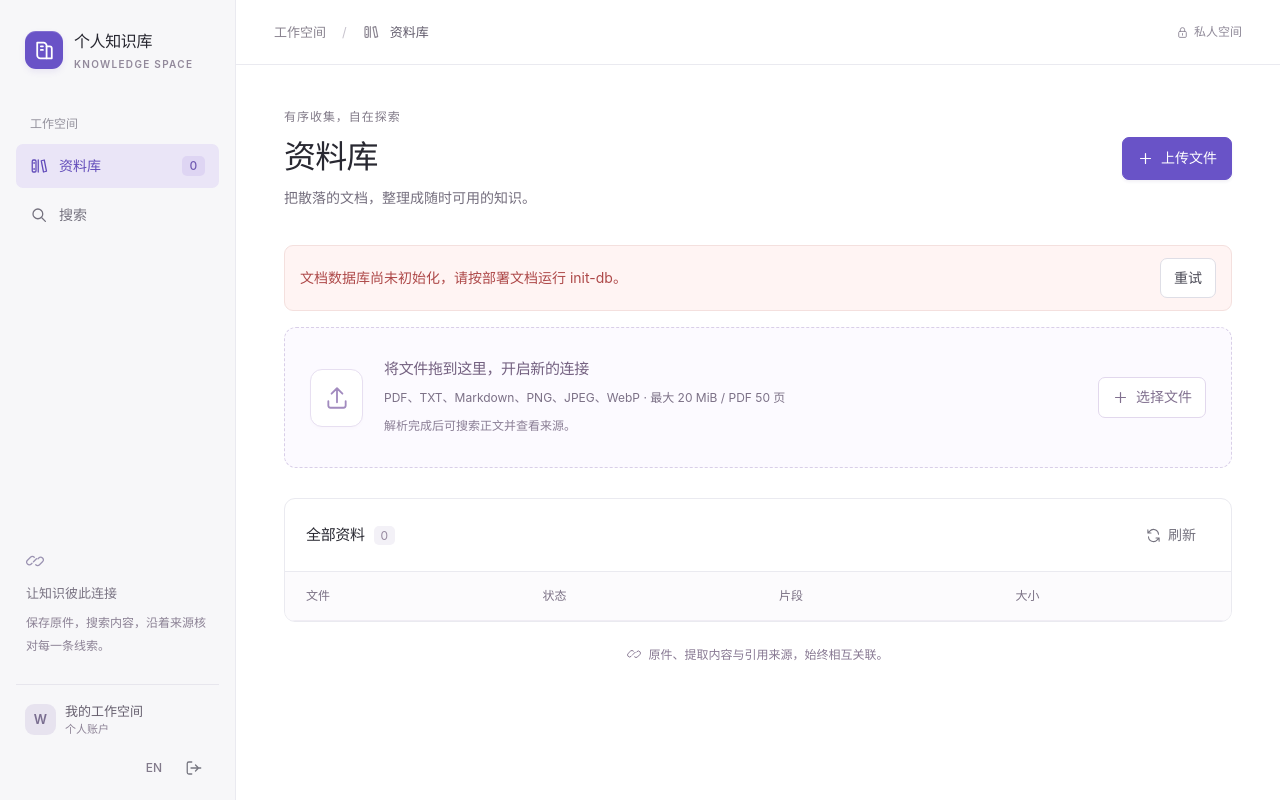
Test: Document workspace › preserves actionable schema errors and allows refreshing
Expected: the message shows "init-db", [300,269,627,286]
Step 1. Click the button "资料库 0" → click(118, 166), box [16,144,219,188]
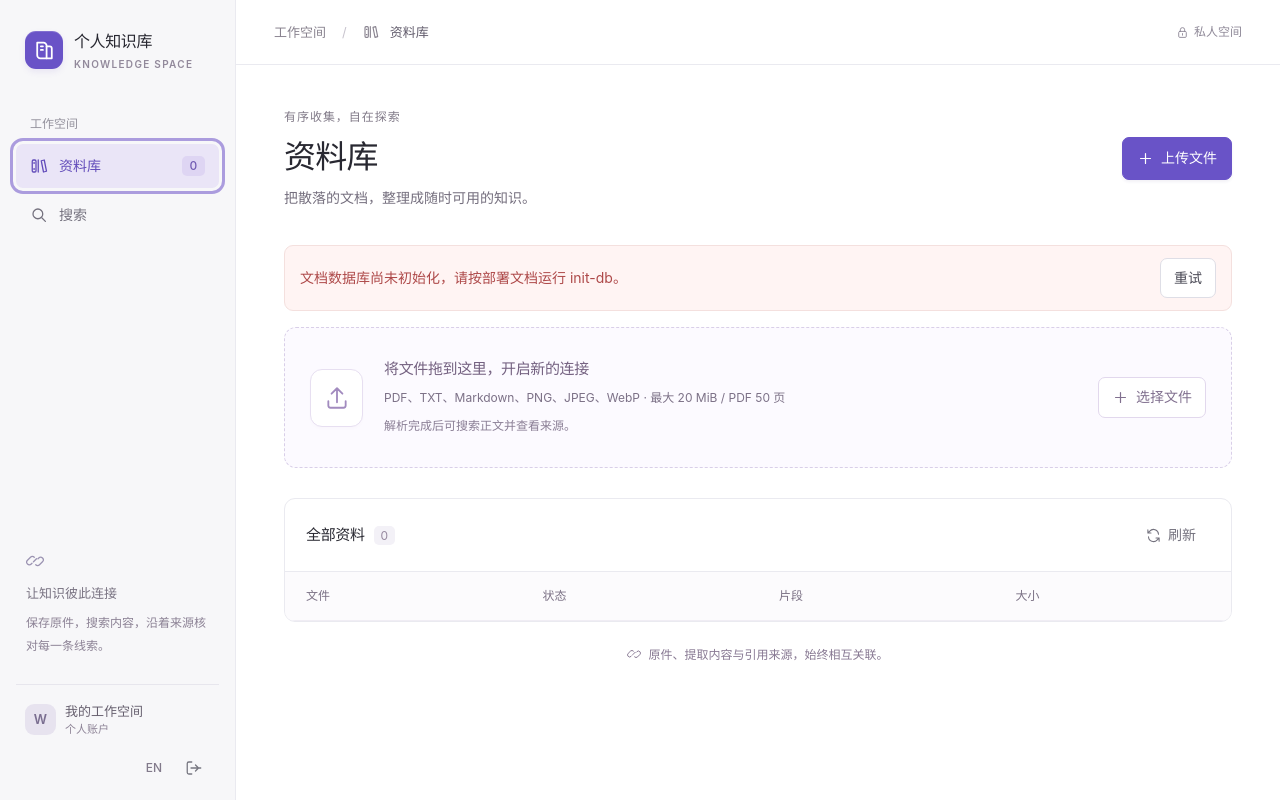
Step 2. Click the button "刷新" → click(1171, 535), box [1132,515,1210,555]
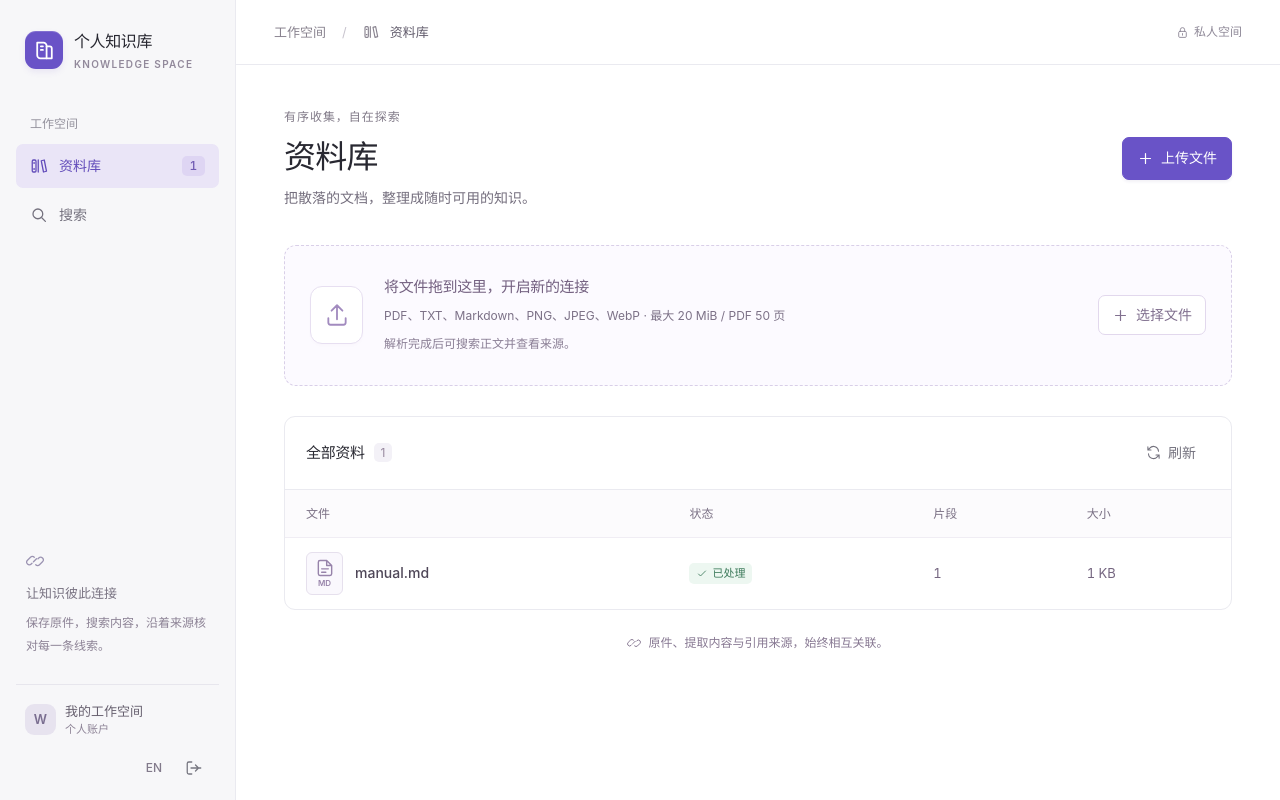
Expected: the button "MD manual.md" is shown, [306,552,647,595]
Expected: the message "文档数据库尚未初始化，请按部署文档运行 init-db。 重试" is gone
